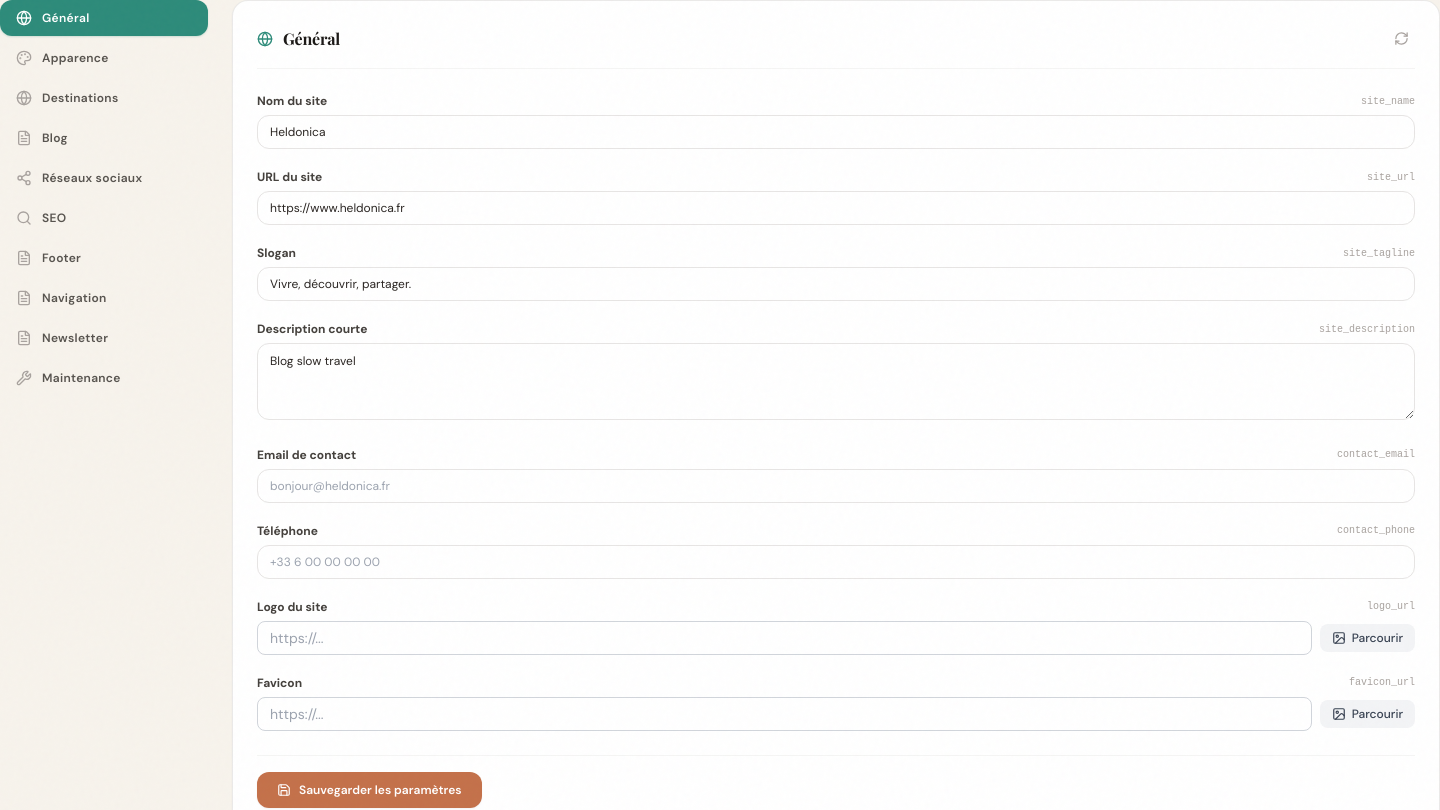
it: CmsSettingsPanel › renders toggle for maintenance mode
Click the button "Maintenance": (104, 378) [0,360,208,396]
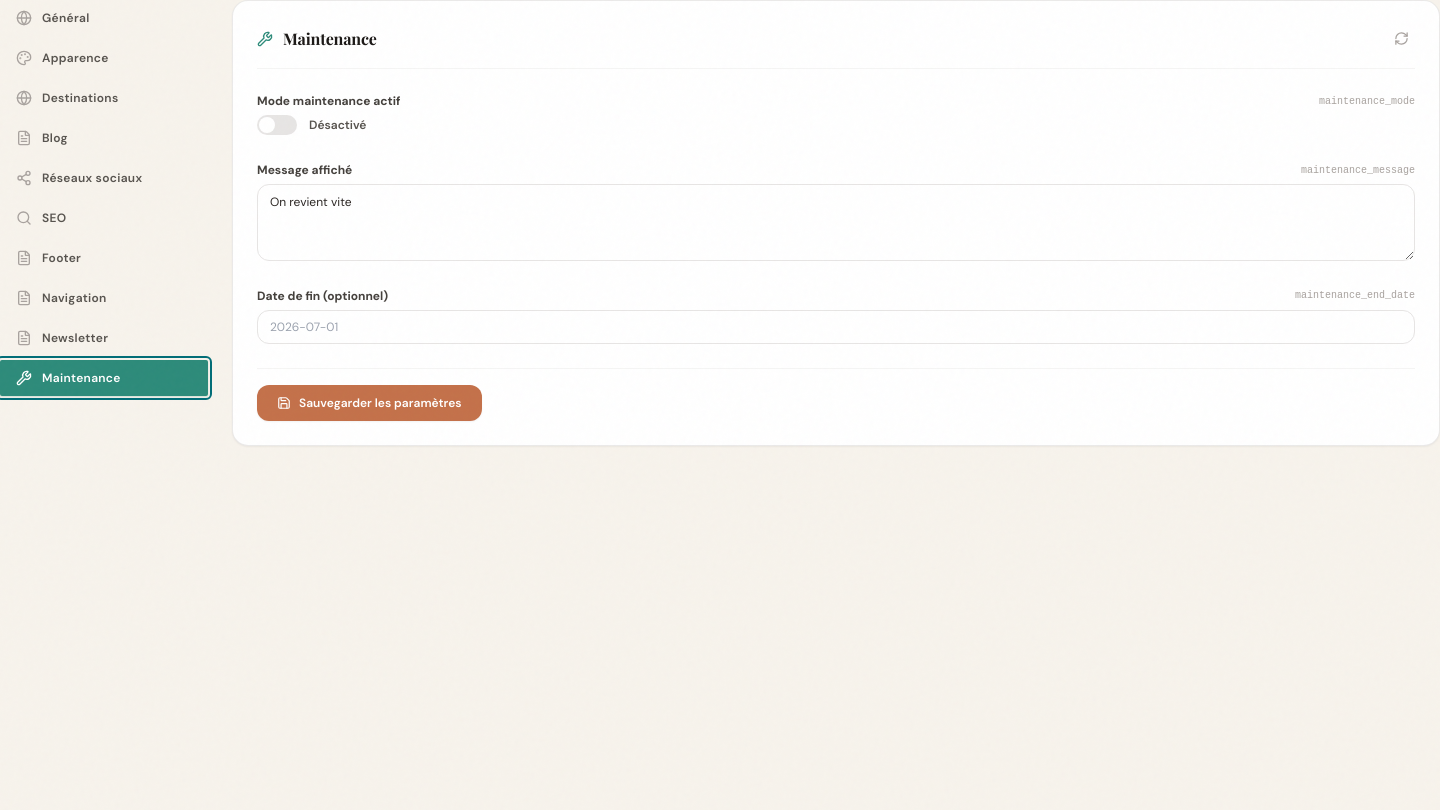
Result: the text "Mode maintenance actif" is shown at [257,93,400,109]
Result: the text "Désactivé" is shown at [309,117,366,133]
